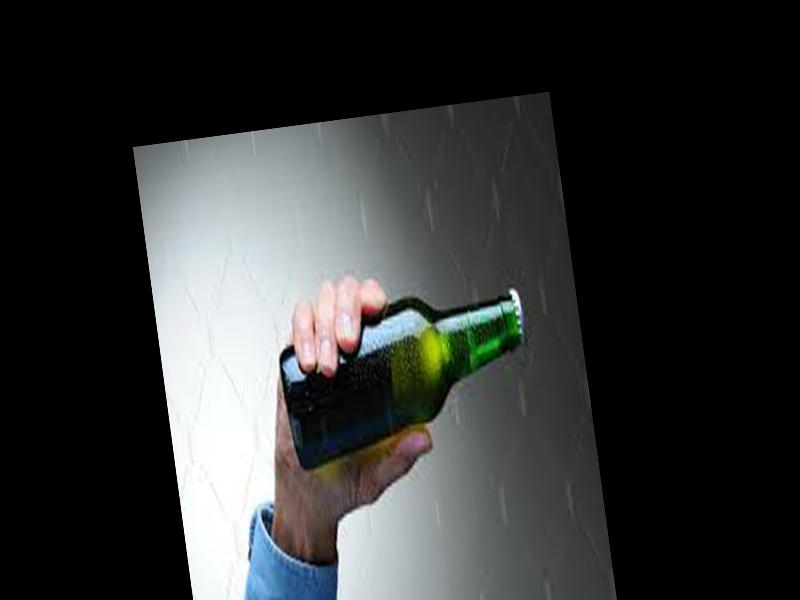Beer: (273, 275, 537, 474)
